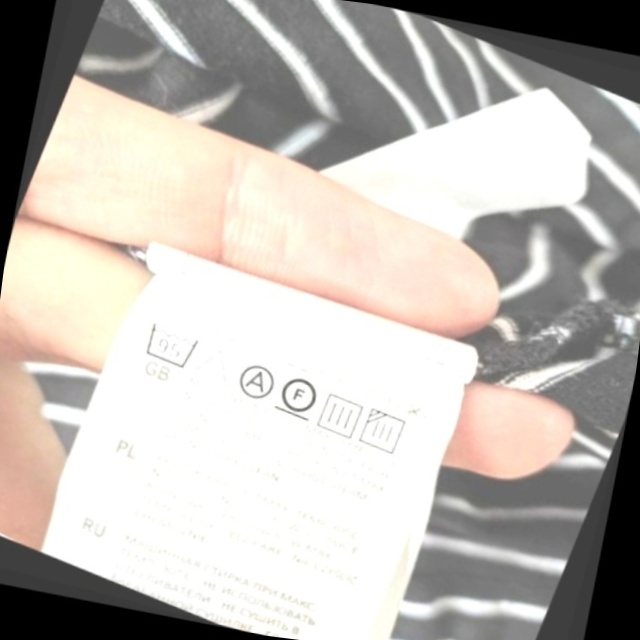95C: (137, 316, 206, 375)
bleach: (191, 337, 240, 391)
drip_dry: (312, 386, 370, 443)
drip_dry_in_shade: (355, 403, 415, 463)
dry_clean: (230, 356, 282, 406)
dry_clean_petrol_only: (272, 366, 327, 426)
